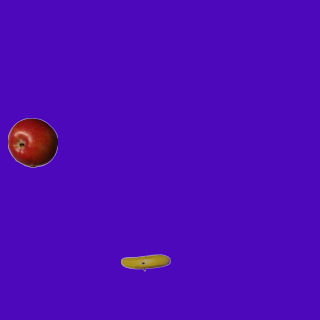Apple Braeburn: (7, 117, 57, 167)
Banana: (120, 237, 170, 287)
